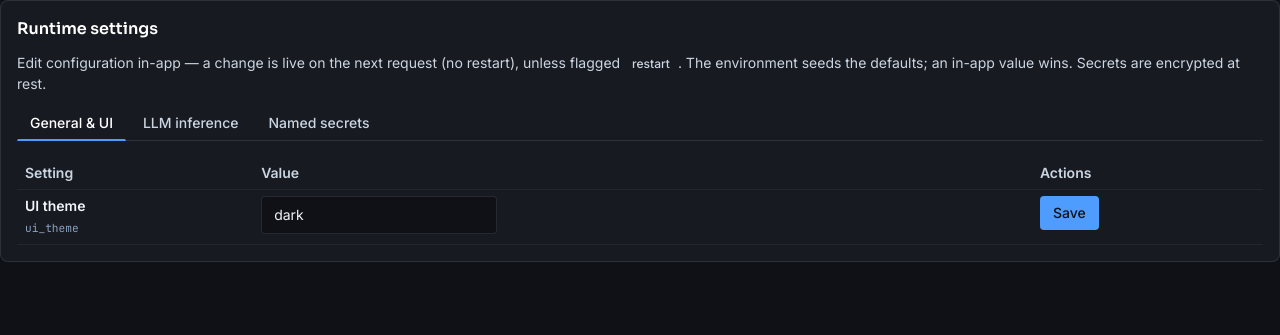
RuntimeSettings › switches to the inference tab on click
Click the tab "LLM inference": x=191, y=124 x1=130 y1=106 x2=252 y2=141
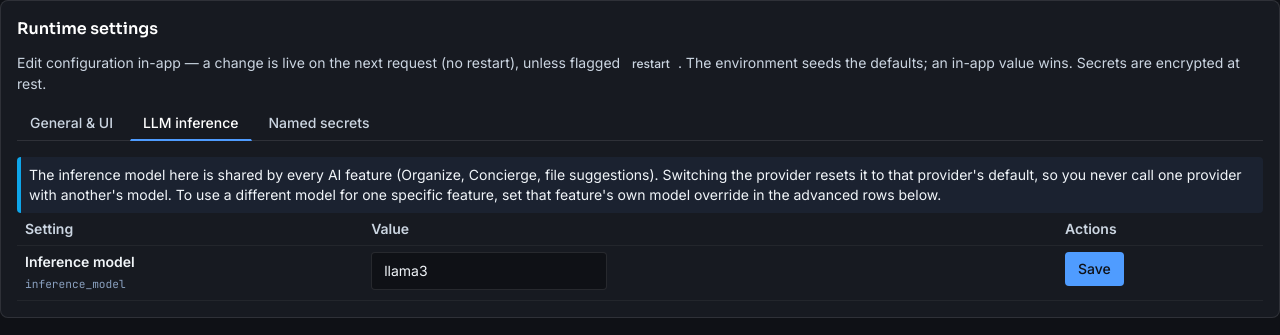
Check: the text "Inference model" is shown, box x1=25 y1=253 x2=135 y2=270
Check: the text "shared by every AI feature" is shown, box x1=29 y1=166 x2=1242 y2=203
Check: the text "override" is shown, box x1=29 y1=166 x2=1242 y2=203
